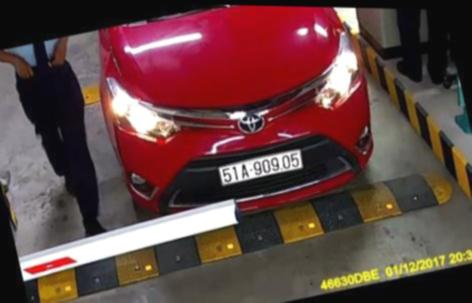License_Plate: (214, 141, 305, 196)
